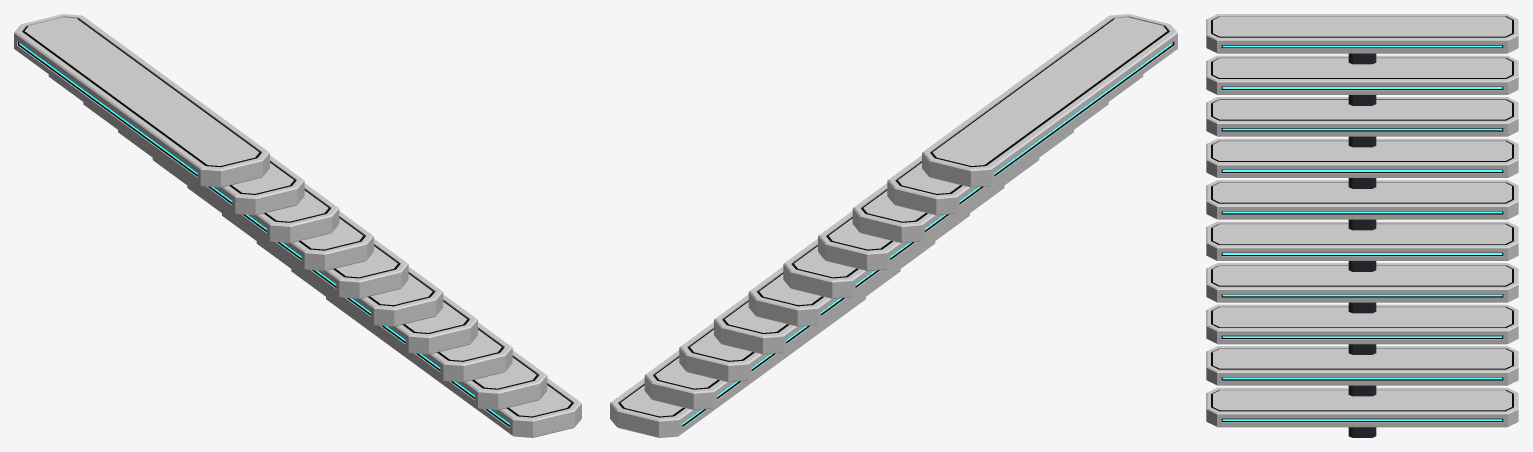
The model's file is SM_StairModule_Long.glb.
The picture shows the model from 3 angles, left to right: view 1: azimuth 30°, elevation 25°; view 2: azimuth 150°, elevation 25°; view 3: azimuth 270°, elevation 25°; orthographic projection. The views are drawn at different scales.
Parts seen in each view (by area): view 1: SM_StairModule_Long; view 2: SM_StairModule_Long; view 3: SM_StairModule_Long.
Boxes of the visible parts, left/top/right/bottom form: SM_StairModule_Long: left=14, top=14, right=581, bottom=437; SM_StairModule_Long: left=610, top=14, right=1177, bottom=437; SM_StairModule_Long: left=1206, top=14, right=1518, bottom=437.
Size of the model in its own units: 4 by 3.64 by 3.64.
